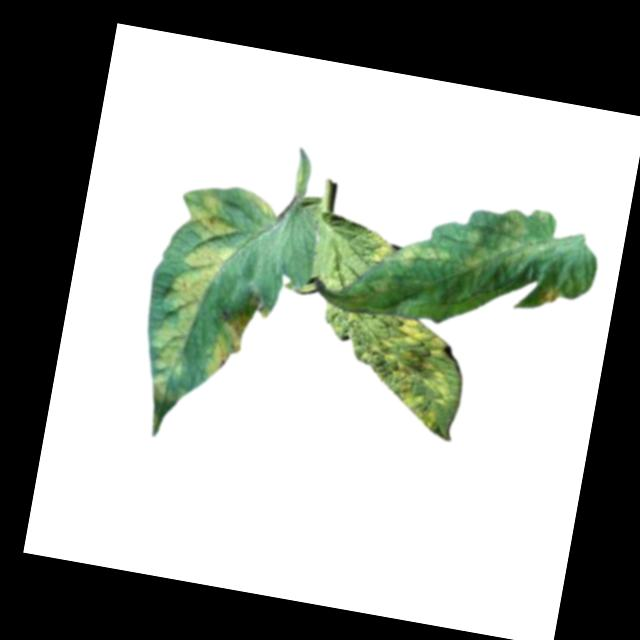Leaf_Mold: (138, 180, 246, 441), (305, 302, 473, 438), (456, 197, 552, 286), (202, 283, 272, 387), (398, 234, 449, 279), (363, 228, 399, 267), (535, 285, 561, 310)
